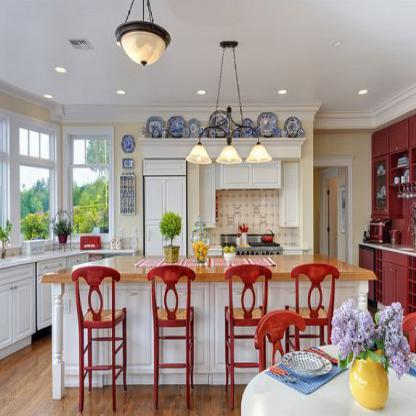chair: (72, 262, 129, 411), (146, 263, 202, 413), (221, 267, 274, 399), (296, 260, 345, 351), (255, 304, 314, 378)
door: (142, 156, 190, 253), (316, 167, 343, 254)
light: (188, 20, 272, 178), (114, 0, 170, 72), (190, 72, 207, 100), (34, 91, 58, 104), (355, 84, 372, 102), (112, 84, 130, 101), (52, 65, 69, 78), (274, 84, 288, 99)
table: (39, 250, 371, 391), (239, 348, 416, 416)
